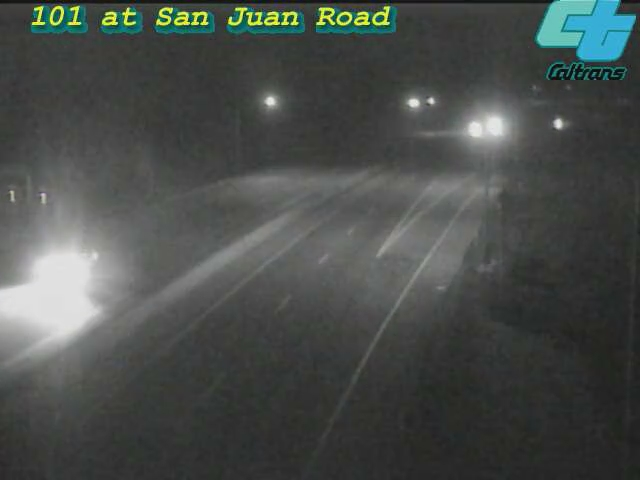vehicle: (25, 225, 105, 305), (532, 100, 582, 150), (450, 104, 500, 154), (467, 101, 517, 151)
